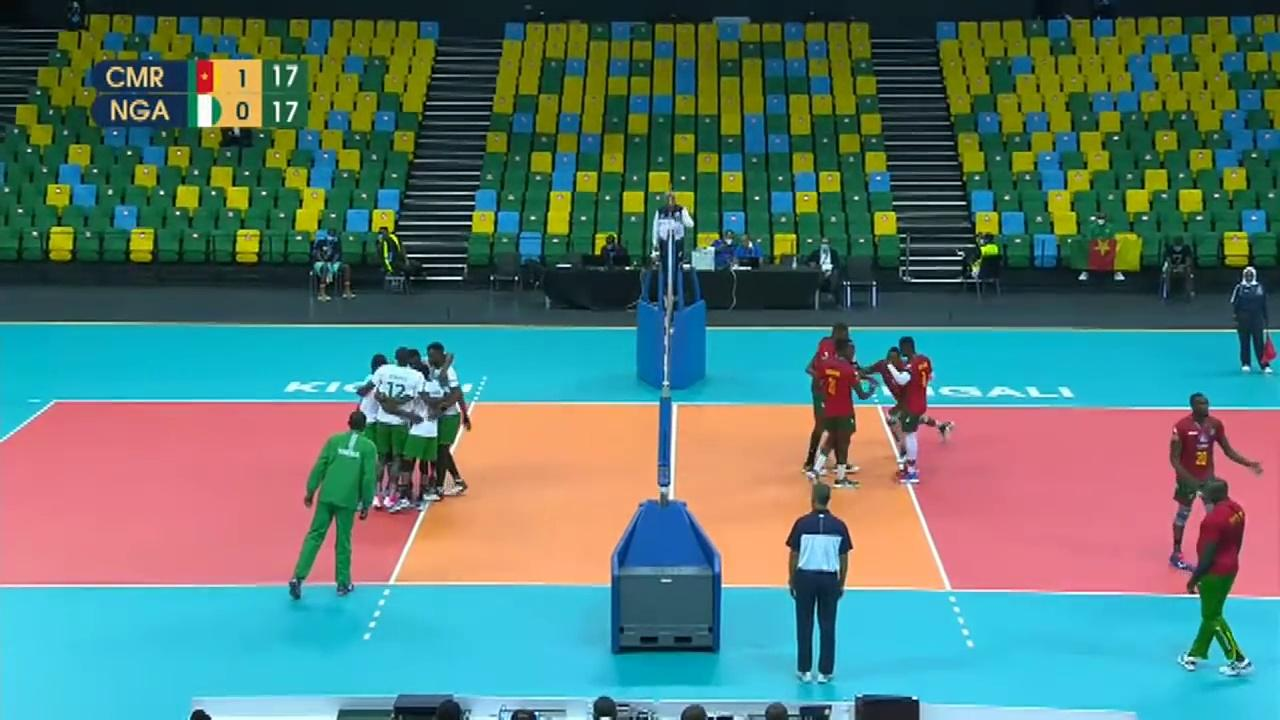player: (1169, 393, 1259, 571), (371, 350, 426, 518), (871, 348, 953, 451), (810, 341, 859, 488), (426, 344, 472, 495), (401, 366, 448, 508), (808, 328, 854, 473), (896, 338, 936, 486), (361, 354, 389, 501)
refree: (779, 488, 856, 687), (1229, 263, 1271, 373), (652, 193, 692, 294)
